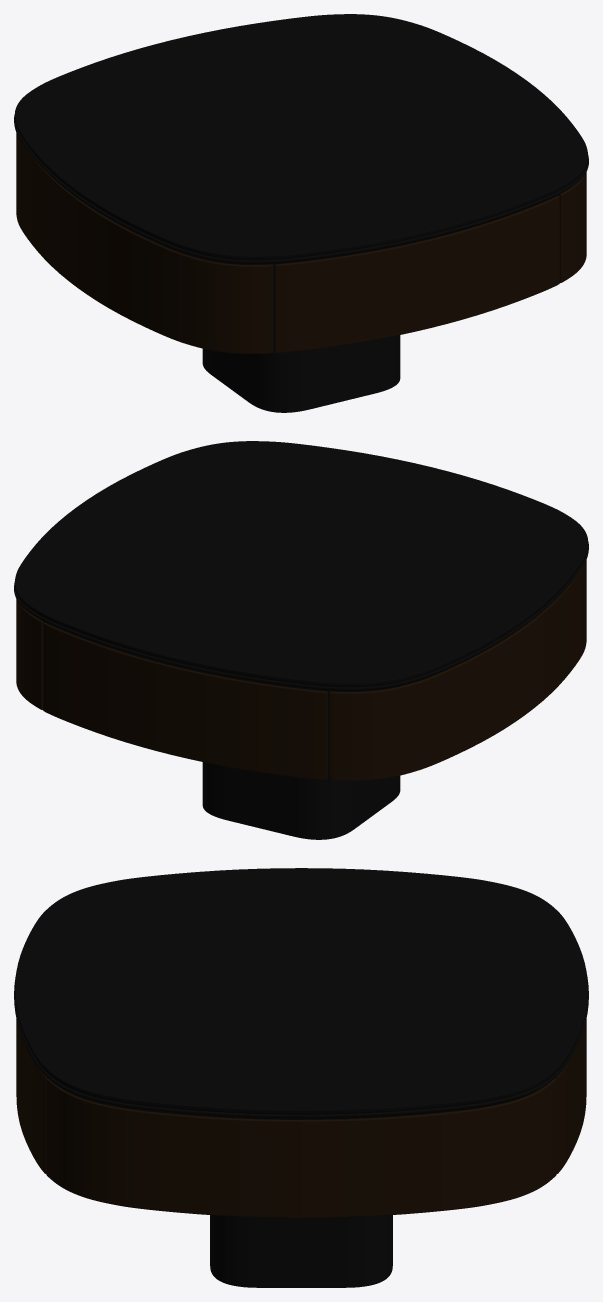
Rendered from box-frame-table.obj.
3 renders of one model, top to bottom at view 1: azimuth 30°, elevation 25°; view 2: azimuth 150°, elevation 25°; view 3: azimuth 270°, elevation 25°, orthographic. The views are drawn at different scales.
Visible parts, largest first — view 1: Coffe_table_057; view 2: Coffe_table_057; view 3: Coffe_table_057.
Part boxes in pixels (left/top/right/bottom): Coffe_table_057: left=14, top=14, right=588, bottom=412; Coffe_table_057: left=14, top=441, right=588, bottom=839; Coffe_table_057: left=14, top=868, right=588, bottom=1287.
Bounding box in the file's own units: 69.23 × 34.64 × 69.23.
